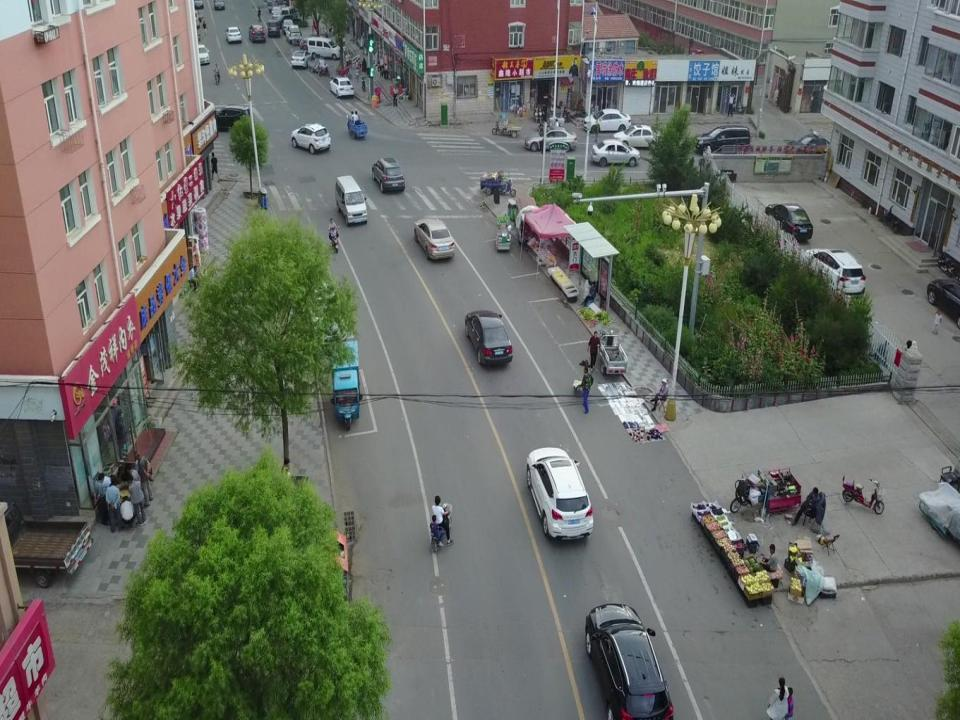car: (585, 602, 674, 720), (526, 448, 594, 536), (805, 248, 865, 296), (306, 280, 346, 346), (465, 311, 513, 364), (765, 203, 813, 239), (927, 276, 960, 326), (415, 217, 454, 258), (695, 125, 752, 152), (612, 123, 664, 151), (591, 138, 641, 166), (525, 126, 577, 151), (209, 102, 253, 131), (582, 106, 631, 131), (371, 157, 405, 190), (292, 123, 331, 151), (785, 134, 834, 154), (329, 78, 355, 97), (291, 50, 312, 69), (225, 26, 243, 44), (250, 24, 266, 44), (196, 44, 209, 65), (270, 4, 282, 20), (282, 19, 294, 32), (213, 0, 224, 10), (193, 0, 203, 9)
truck: (0, 505, 92, 574)
van: (335, 176, 368, 224), (306, 36, 342, 59), (280, 6, 298, 23), (286, 25, 302, 42), (267, 19, 279, 37)
